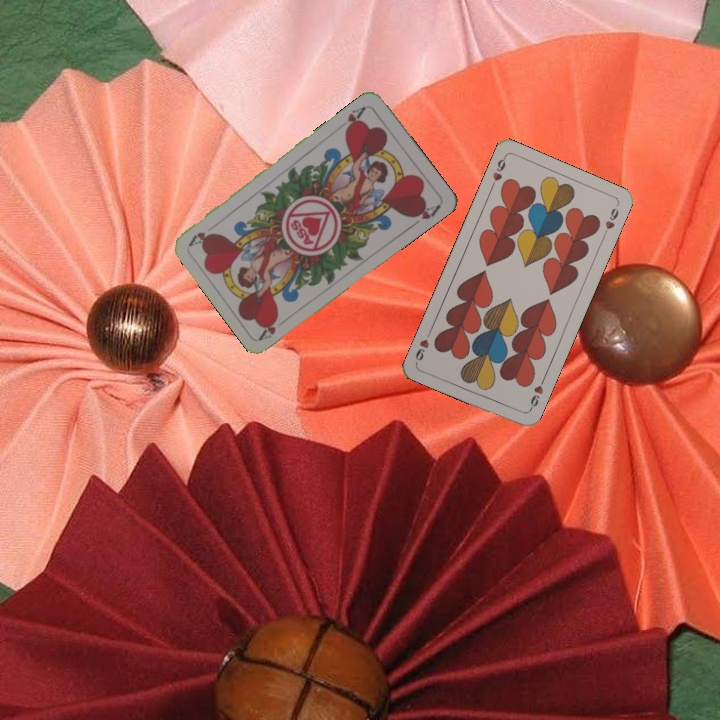H9: (525, 375, 547, 413), (487, 153, 508, 191)
HA: (335, 102, 368, 135), (256, 313, 291, 342)
